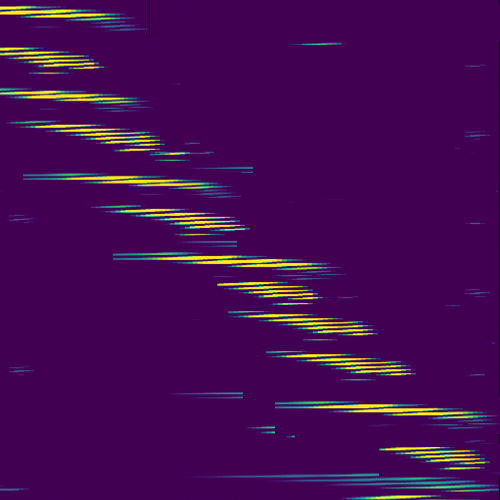semblance: (17, 119, 194, 158), (104, 204, 251, 237), (143, 249, 332, 272), (268, 351, 420, 379), (237, 311, 382, 338), (50, 169, 221, 191), (1, 85, 152, 108), (304, 399, 479, 418), (379, 443, 491, 472), (1, 43, 107, 73), (215, 279, 326, 307), (1, 3, 132, 26)
